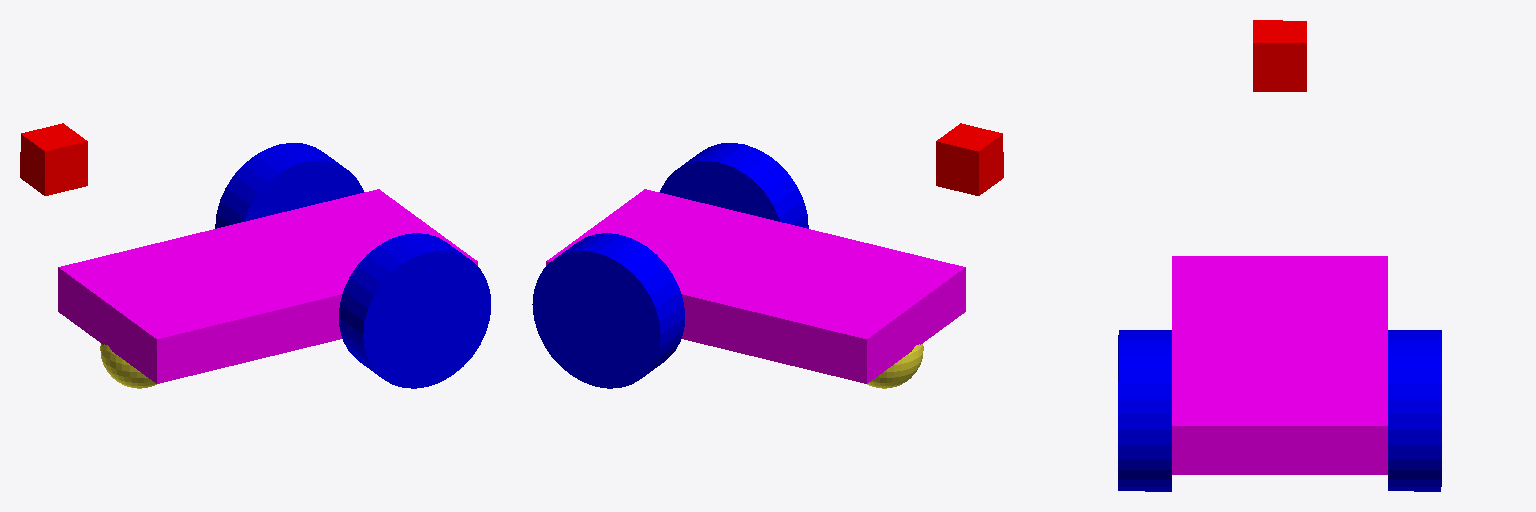
robot.urdf — car:
<?xml version="1.0" ?> 
<robot name="car"> 
  <link name="base"> 
    <visual> 
      <geometry> 
        <box size="0.75 0.4 0.1"/> 
      </geometry> 
      <material name="pink"> 
        <color rgba="1 0 1 1" /> 
      </material> 
    </visual> 
    <inertial> 
      <mass value="1" /> 
      <inertia ixx="0.01" ixy="0.0" ixz="0" iyy="0.01" iyz="0" izz="0.01" /> 
    </inertial> 
    <collision> 
      <geometry> 
        <box size="0.75 0.4 0.1"/> 
      </geometry> 
    </collision> 
  </link> 
  <link name="wheel_right_link"> 
    <inertial> 
      <mass value="2" /> 
      <inertia ixx="0.01" ixy="0.0" ixz="0" iyy="0.01" iyz="0" izz="0.01" /> 
    </inertial> 
    <visual> 
      <geometry> 
        <cylinder radius="0.15" length="0.1"/> 
      </geometry> 
      <material name="blue"> 
        <color rgba="0 0 1 1"/> 
      </material> 
    </visual> 
    <collision>         
      <geometry> 
        <cylinder radius="0.15" length="0.1"/> 
      </geometry> 
      <contact_coefficients mu="1" kp="1e+13" kd="1.0"/> 
    </collision> 
  </link> 
  <joint name="wheel_right_joint" type="continuous"> 
    <origin xyz="0.2 0.25 0.0" rpy="1.57 0.0 0.0"/> 
    <parent link="base"/> 
    <child link="wheel_right_link"/> 
    <axis xyz="0.0 0.0 1.0"/> 
  </joint> 
  <link name="wheel_left_link"> 
    <inertial> 
      <mass value="2" /> 
      <inertia ixx="0.01" ixy="0.0" ixz="0" iyy="0.01" iyz="0" izz="0.01" /> 
    </inertial> 
    <visual>           
      <geometry> 
        <cylinder radius="0.15" length="0.1"/> 
      </geometry> 
      <material name="blue"> 
        <color rgba="0 0 1 1"/> 
      </material> 
    </visual> 
    <collision> 
      <geometry> 
        <cylinder radius="0.15" length="0.1"/> 
      </geometry> 
      <contact_coefficients mu="1" kp="1e+13" kd="1.0"/> 
    </collision> 
  </link> 
  <joint name="wheel_left_joint" type="continuous"> 
    <origin xyz="0.2 -0.25 0.0" rpy="1.57 0.0 0.0"/> 
    <parent link="base"/> 
    <child link="wheel_left_link"/> 
    <axis xyz="0.0 0.0 1.0"/>     
  </joint> 
  <link name="caster"> 
    <inertial> 
      <mass value="1" /> 
      <inertia ixx="0.01" ixy="0.0" ixz="0" iyy="0.01" iyz="0" izz="0.01" /> 
    </inertial> 
    <visual>         
      <geometry> 
        <sphere radius=".08" /> 
      </geometry> 
      <material name="caster" /> 
    </visual> 
    <collision> 
      <origin/> 
      <geometry> 
        <sphere radius=".08" /> 
      </geometry> 
    </collision> 
  </link> 
  <joint name="caster_joint" type="continuous"> 
    <origin xyz="-0.3 0.0 -0.07" rpy="0.0 0.0 0.0"/> 
    <axis xyz="0 0 1" /> 
    <parent link="base"/> 
    <child link="caster"/> 
  </joint> 
  <link name="camera"> 
    <inertial> 
      <mass value="0.5" /> 
      <inertia ixx="0.01" ixy="0.0" ixz="0" iyy="0.01" iyz="0" izz="0.01" /> 
    </inertial> 
    <visual>       
      <geometry> 
        <box size="0.1 0.1 0.1"/> 
      </geometry> 
      <material name="red"> 
        <color rgba="1 0 0 1"/> 
      </material> 
    </visual> 
    <collision> 
      <geometry> 
        <box size="0.1 0.1 0.1"/> 
      </geometry> 
    </collision> 
  </link> 
  <joint name="camera_joint" type="fixed"> 
    <origin xyz="-0.5 0 0.4" rpy="0.0 1.57 3.14"/> 
    <parent link="base"/> 
    <child link="camera"/> 
    <axis xyz="0.0 0.0 1.0"/>     
  </joint> 
  <gazebo reference="base"> 
    <material>Gazebo/WhiteGlow</material> 
  </gazebo>  
  <gazebo reference="wheel_left_link"> 
    <material>Gazebo/SkyBlue</material> 
  </gazebo>  
  <gazebo reference="wheel_right_link"> 
    <material>Gazebo/SkyBlue </material> 
  </gazebo>  
  <gazebo reference="caster"> 
    <material>Gazebo/Grey</material> 
  </gazebo>  
  <gazebo reference="camera"> 
    <material>Gazebo/Blue</material> 
  </gazebo>  
  <gazebo> 
    <plugin filename="libgazebo_ros_diff_drive.so" name="gazebo_base_controller"> 
      <odometry_frame>odom</odometry_frame> 
      <commandTopic>cmd_vel</commandTopic> 
      <publish_odom>true</publish_odom> 
      <publish_odom_tf>true</publish_odom_tf> 
      <update_rate>15.0</update_rate> 
      <left_joint>wheel_left_joint</left_joint> 
      <right_joint>wheel_right_joint</right_joint> 
      <wheel_separation>0.5</wheel_separation> 
      <wheel_diameter>0.3</wheel_diameter> 
      <max_wheel_acceleration>0.7</max_wheel_acceleration> 
      <max_wheel_torque>8</max_wheel_torque> 
      <robotBaseFrame>base</robotBaseFrame> 
    </plugin> 
  </gazebo> 
  <gazebo reference="camera"> 
    <sensor type="camera" name="camera1"> 
      <visualize>true</visualize> 
      <update_rate>30.0</update_rate> 
      <camera name="head"> 
        <horizontal_fov>1.3962634</horizontal_fov> 
        <image> 
          <width>512</width> 
          <height>512</height> 
          <format>R8G8B8</format> 
        </image> 
        <clip> 
          <near>0.02</near> 
          <far>500</far> 
        </clip> 
      </camera> 
      <plugin name="camera_controller" filename="libgazebo_ros_camera.so"> 
        <alwaysOn>true</alwaysOn> 
        <updateRate>0.0</updateRate> 
        <cameraName>/camera</cameraName> 
        <imageTopicName>image_raw</imageTopicName> 
        <cameraInfoTopicName>camera_info</cameraInfoTopicName> 
        <frameName>camera_link</frameName> 
        <hackBaseline>0.07</hackBaseline> 
      </plugin> 
    </sensor> 
    <material>Gazebo/Blue</material> 
  </gazebo> 
</robot>

--- What the picture shows (computed from the rendered views, not written in the file) ---
The picture shows the robot from 3 angles, left to right: view 1: azimuth 30°, elevation 25°; view 2: azimuth 150°, elevation 25°; view 3: azimuth 270°, elevation 25°; orthographic projection.
Robot: car — 5 links, 4 joints (3 continuous, 1 fixed); root link base; default pose: all joints at 0.
Visible links, largest first — view 1: base, wheel_left_link, wheel_right_link, camera, caster; view 2: base, wheel_right_link, wheel_left_link, camera, caster; view 3: base, wheel_right_link, wheel_left_link, camera.
Link boxes in pixels (left/top/right/bottom): base: left=58, top=189, right=477, bottom=383; wheel_left_link: left=339, top=233, right=490, bottom=388; wheel_right_link: left=215, top=143, right=363, bottom=228; camera: left=20, top=123, right=87, bottom=195; caster: left=100, top=344, right=156, bottom=388; base: left=546, top=189, right=965, bottom=383; wheel_right_link: left=532, top=233, right=684, bottom=388; wheel_left_link: left=660, top=143, right=808, bottom=228; camera: left=936, top=123, right=1003, bottom=195; caster: left=867, top=344, right=923, bottom=388; base: left=1172, top=256, right=1387, bottom=474; wheel_right_link: left=1388, top=330, right=1441, bottom=491; wheel_left_link: left=1118, top=330, right=1171, bottom=491; camera: left=1253, top=20, right=1306, bottom=91.
Bounding box of the posed robot: 0.9251 × 0.6002 × 0.6001 m (x, y, z).
Geometry: primitives only (box / cylinder / sphere), no mesh files.
